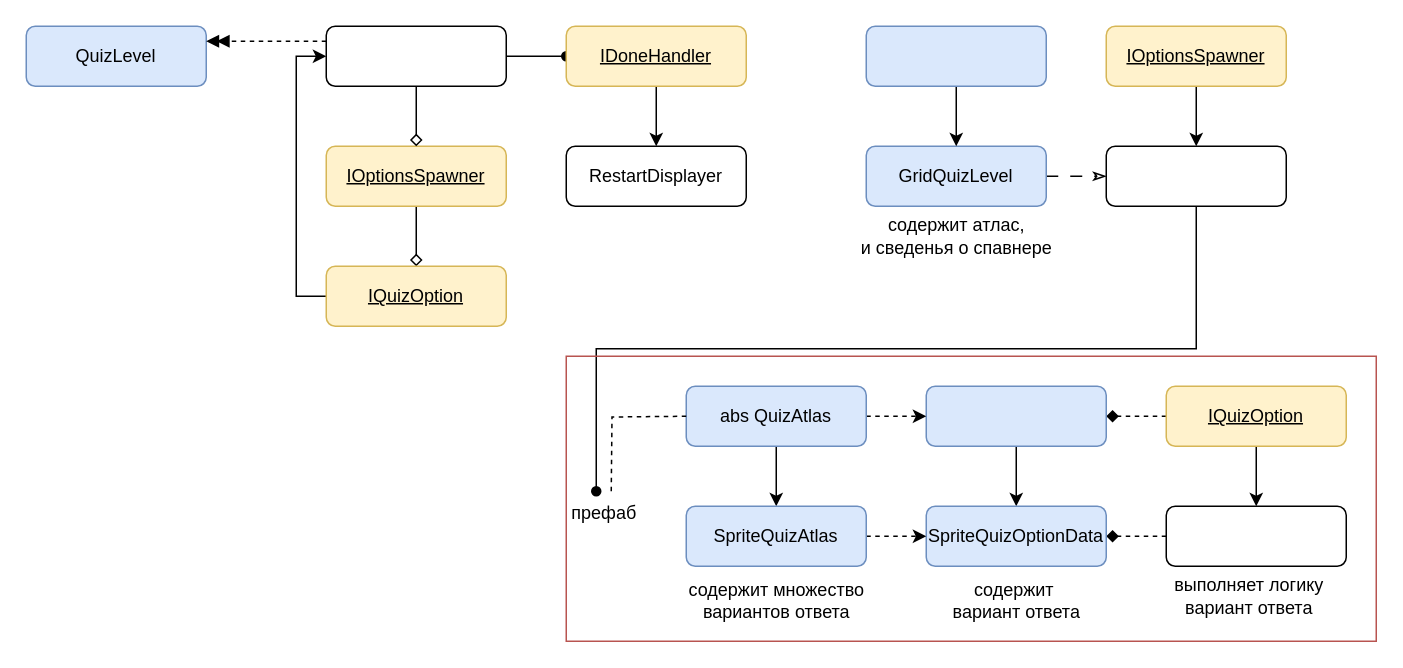
This 1403x668 diagram has some shape labels left out. The centre of each missing label's shape, as x and y in pixels:
abs QuizLevel: pixel 955 55
abs QuizOptionData: pixel 1015 415
LevelImplementer: pixel 415 55
OptionsGridSpawner: pixel 1195 175
SpriteQuizOption: pixel 1255 535
